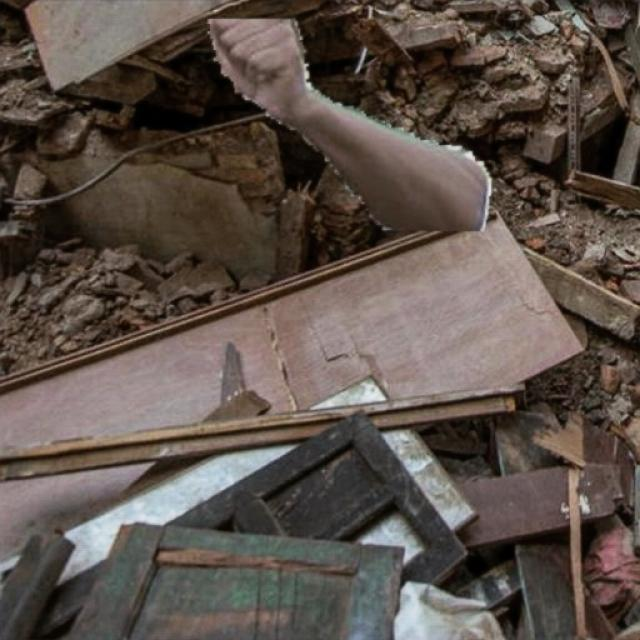Person in Rubble: (208, 19, 490, 230)
